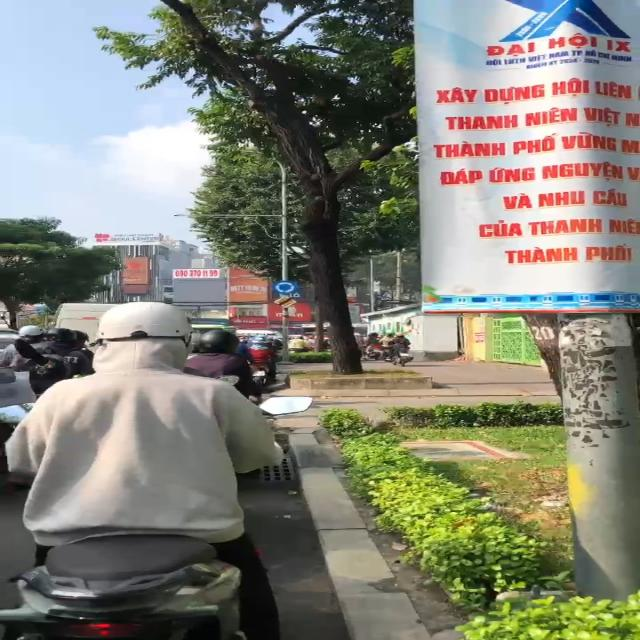Bien bao noi giao nhau chay theo vong xuyen: (265, 279, 304, 296)
